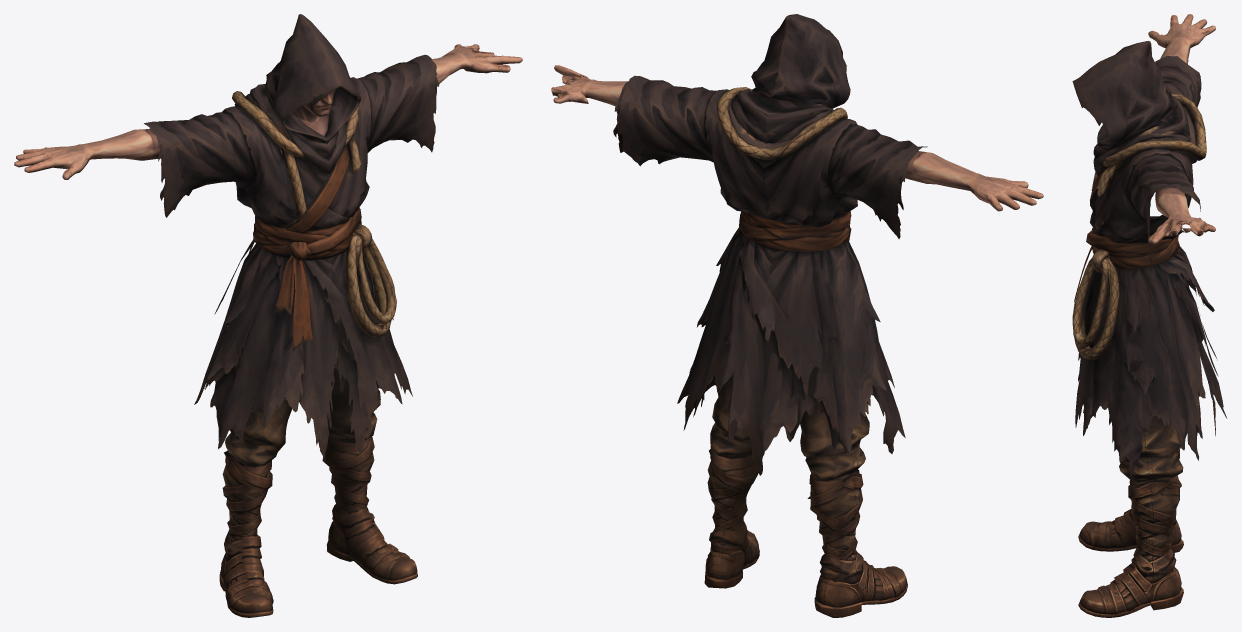
The model's file is F01_body_snatcher_v2_bad_hand.glb.
3 views of the same model, side by side, from view 1: azimuth 30°, elevation 25°; view 2: azimuth 150°, elevation 25°; view 3: azimuth 270°, elevation 25° (orthographic). The views are drawn at different scales.
Visible parts, largest first — view 1: tripo_5dd3b573_e6e5_4be4_9880_c5a05c0fd79e; view 2: tripo_5dd3b573_e6e5_4be4_9880_c5a05c0fd79e; view 3: tripo_5dd3b573_e6e5_4be4_9880_c5a05c0fd79e.
Part boxes in pixels (<box>): tripo_5dd3b573_e6e5_4be4_9880_c5a05c0fd79e: <box>14,14,522,617</box>; tripo_5dd3b573_e6e5_4be4_9880_c5a05c0fd79e: <box>551,14,1043,617</box>; tripo_5dd3b573_e6e5_4be4_9880_c5a05c0fd79e: <box>1072,14,1227,617</box>.
Bounding box in the file's own units: 0.9106 × 0.9995 × 0.2622.
Materials: 1 (1 with a texture image).
